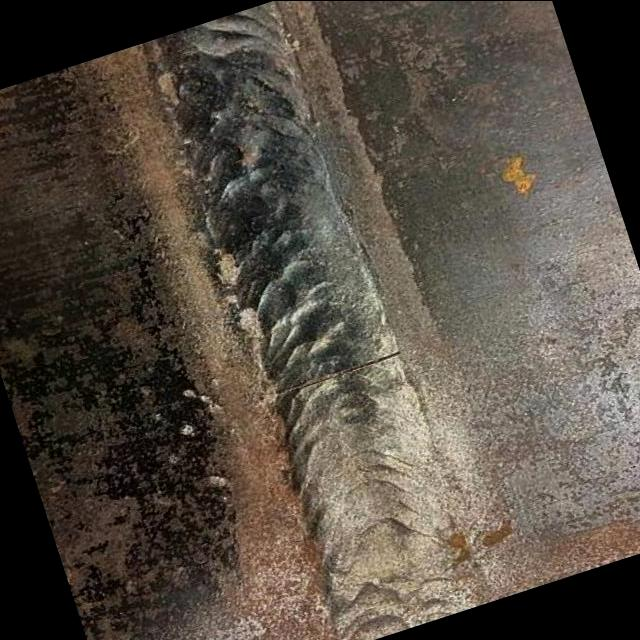defect: (273, 347, 408, 393)
